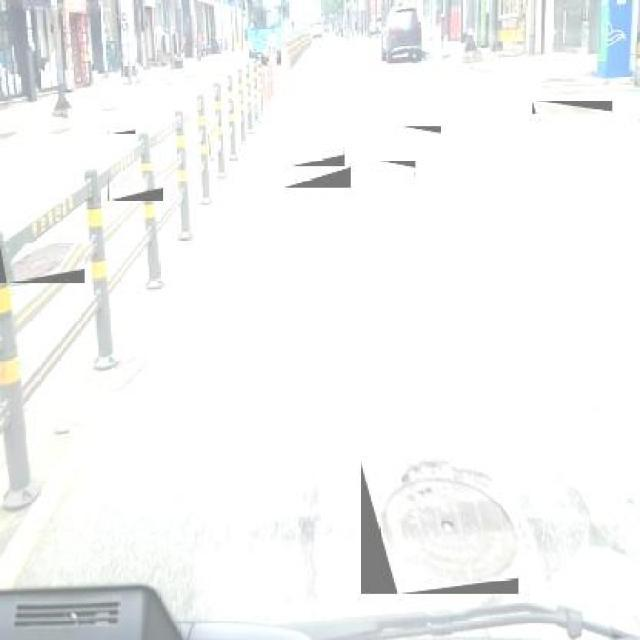Manhole: (360, 458, 518, 594), (0, 244, 85, 284), (108, 171, 164, 200), (283, 166, 351, 188), (283, 144, 345, 168), (532, 100, 612, 114), (376, 159, 416, 176), (399, 125, 441, 136), (108, 126, 136, 134)
Pothole: (524, 480, 635, 580), (272, 480, 331, 596), (46, 424, 74, 439)
